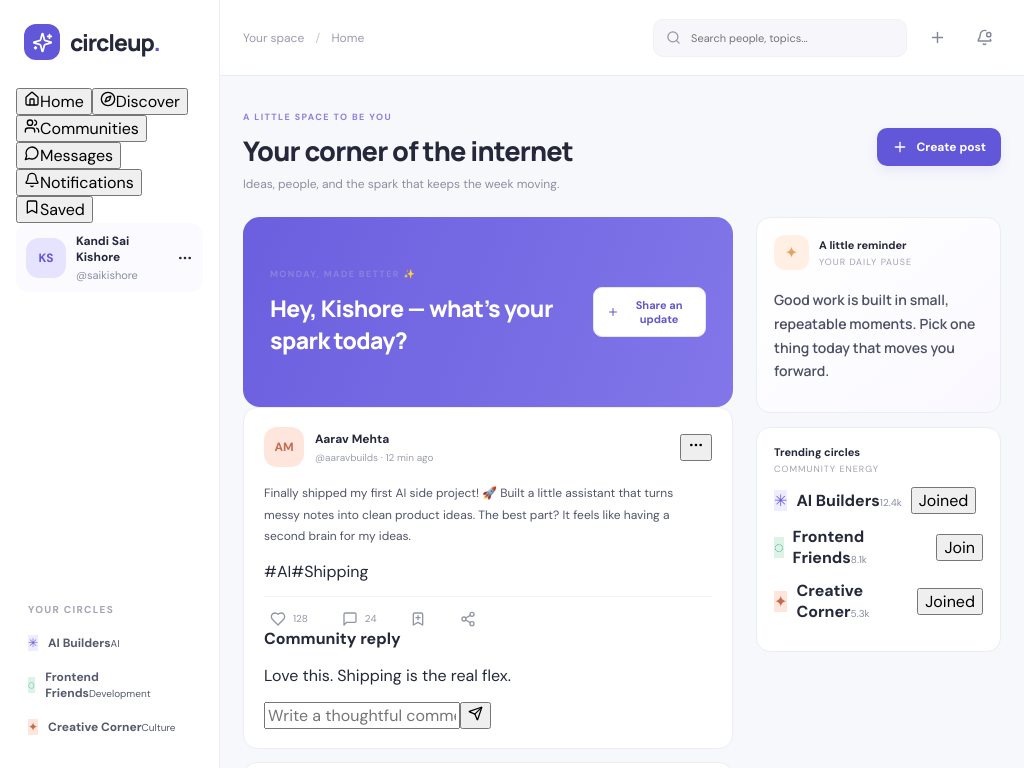
Scenario: CircleUp Connect core interactions › toggles a like and persists the changed count
What coordinates should you click on to do the following:
click the button "128"
I would click on:
 (289, 619)
Its box is [264,610,314,628].
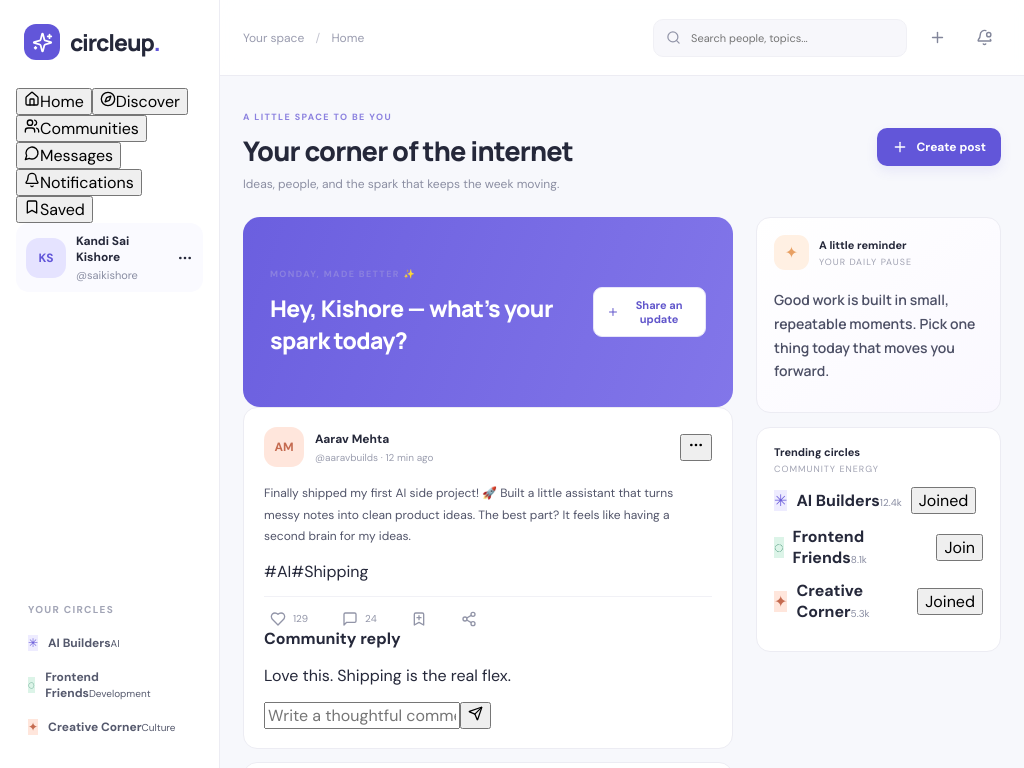
expect the text "129" is shown: met, box [293,612,308,625]
